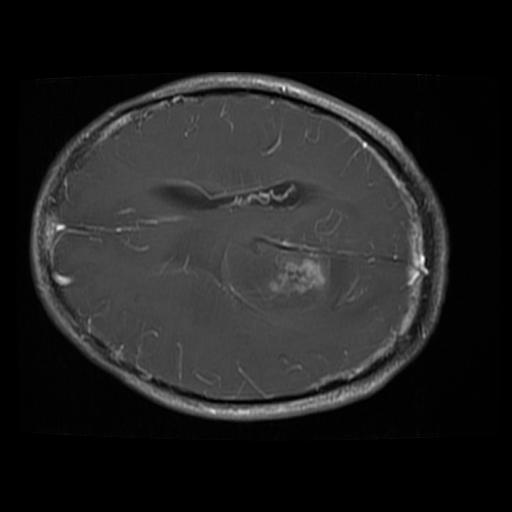glioma: (255, 236, 338, 304)
